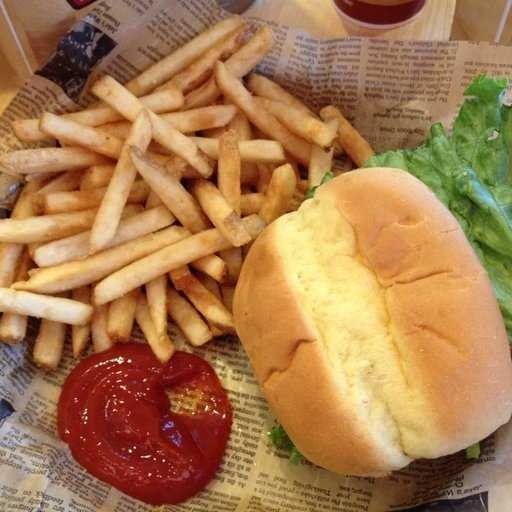hamburger: (229, 94, 499, 454)
